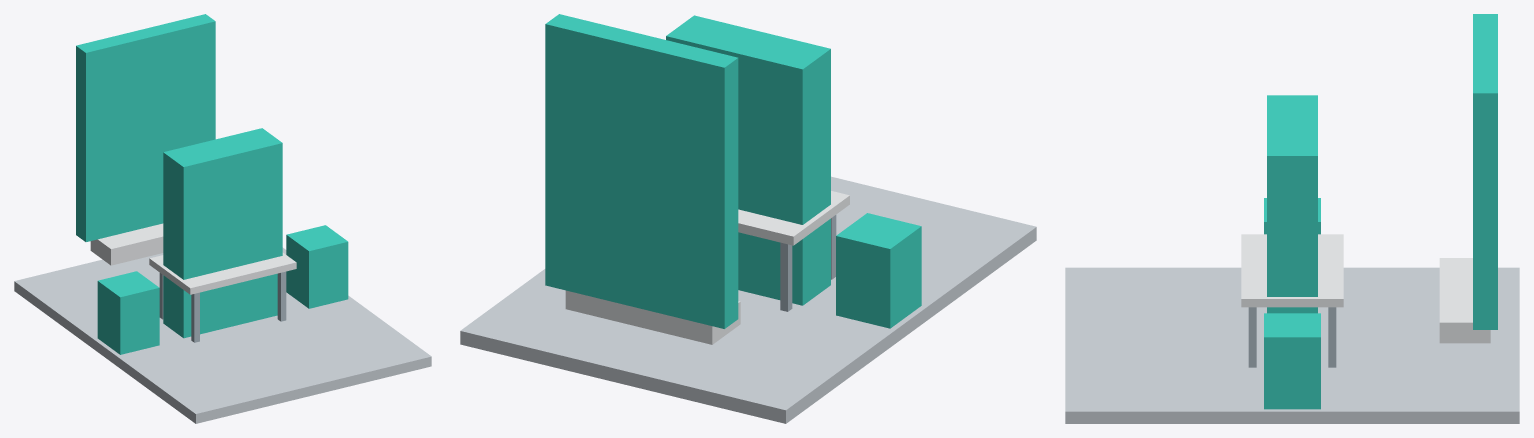
The picture shows the model from 3 angles, left to right: view 1: azimuth 30°, elevation 25°; view 2: azimuth 150°, elevation 25°; view 3: azimuth 270°, elevation 25°; orthographic projection. The views are drawn at different scales.
Parts seen in each view (by area): view 1: Exhibition Booth Concept; view 2: Exhibition Booth Concept; view 3: Exhibition Booth Concept.
Boxes of the visible parts, x1,y1,x2,y2 form: Exhibition Booth Concept: (14, 14, 431, 423); Exhibition Booth Concept: (460, 14, 1036, 423); Exhibition Booth Concept: (1065, 14, 1519, 423).
Bounding box in the file's own units: 3 × 2.9 × 4.
